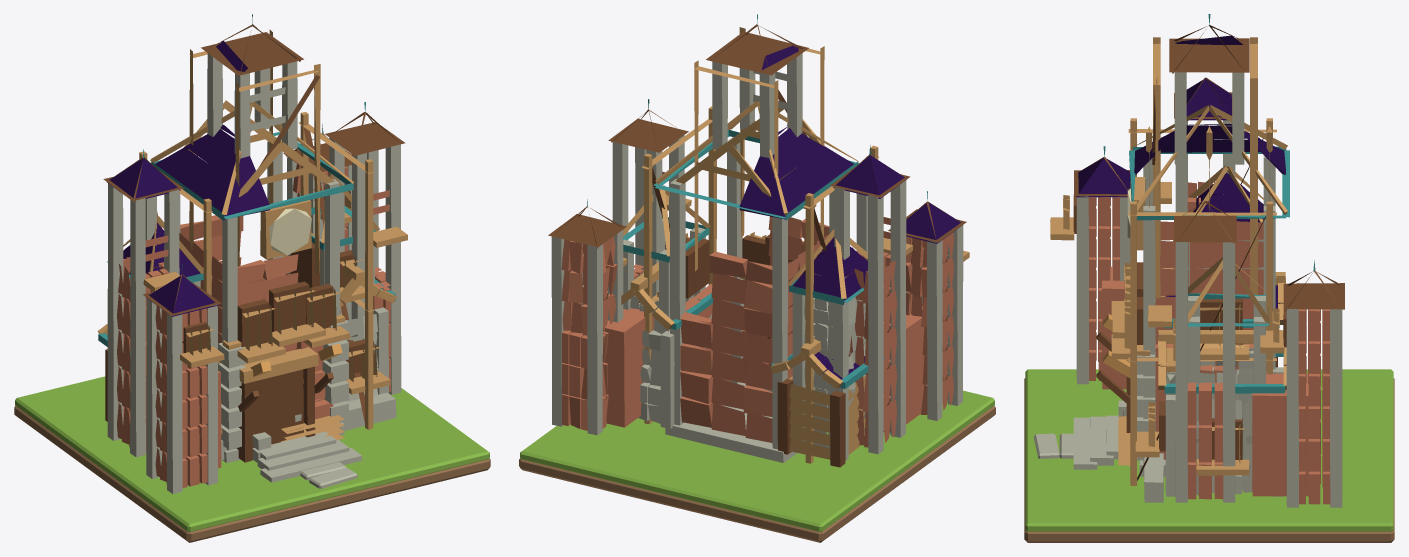
Rendered from town_hall_l14_construction_LOD2.glb.
The picture shows the model from 3 angles, left to right: view 1: azimuth 30°, elevation 25°; view 2: azimuth 150°, elevation 25°; view 3: azimuth 270°, elevation 25°; orthographic projection. The views are drawn at different scales.
Parts seen in each view (by area): view 1: town_hall_l14_construction_foundation.001, town_hall_l14_construction_grass_tile.001, town_hall_l14_construction_earth_tile.001, town_hall_l14_construction_path_stone.005; view 2: town_hall_l14_construction_foundation.001, town_hall_l14_construction_grass_tile.001, town_hall_l14_construction_earth_tile.001; view 3: town_hall_l14_construction_foundation.001, town_hall_l14_construction_grass_tile.001, town_hall_l14_construction_earth_tile.001, town_hall_l14_construction_path_stone.005.
Part boxes in pixels (bbox=[...]): town_hall_l14_construction_foundation.001: bbox=[97, 14, 407, 493]; town_hall_l14_construction_grass_tile.001: bbox=[15, 376, 489, 531]; town_hall_l14_construction_earth_tile.001: bbox=[14, 405, 490, 542]; town_hall_l14_construction_path_stone.005: bbox=[309, 467, 357, 488]; town_hall_l14_construction_foundation.001: bbox=[548, 14, 969, 467]; town_hall_l14_construction_grass_tile.001: bbox=[520, 390, 994, 531]; town_hall_l14_construction_earth_tile.001: bbox=[519, 405, 995, 542]; town_hall_l14_construction_foundation.001: bbox=[1050, 14, 1344, 507]; town_hall_l14_construction_grass_tile.001: bbox=[1025, 369, 1393, 531]; town_hall_l14_construction_earth_tile.001: bbox=[1024, 378, 1394, 542]; town_hall_l14_construction_path_stone.005: bbox=[1034, 433, 1059, 458].
Size of the model in its own units: 3.6 by 4.85 by 3.6.
